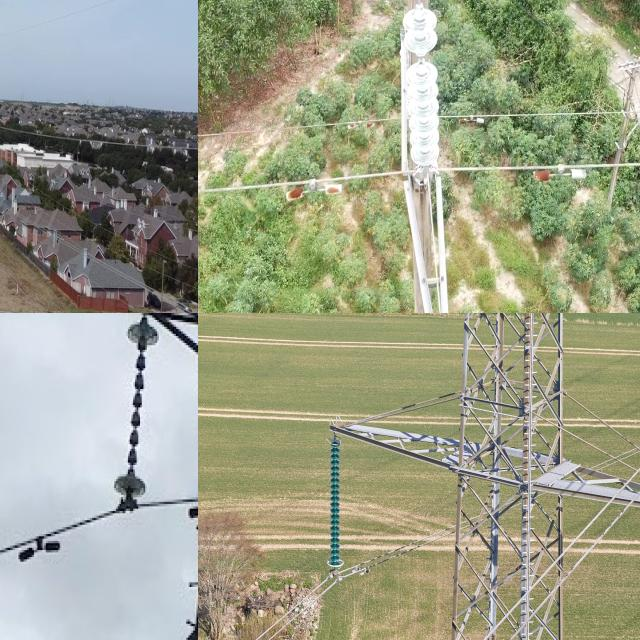杆塔: (460, 313, 567, 640), (124, 313, 198, 640)
正常电缆: (198, 110, 397, 143), (198, 164, 396, 197), (453, 155, 640, 181), (455, 102, 640, 122)
正常绝缘子: (116, 313, 159, 513), (400, 0, 445, 186), (324, 439, 349, 574)
绝缘子破损: (129, 418, 141, 437), (131, 400, 143, 418), (128, 439, 139, 458), (137, 342, 146, 364), (133, 383, 145, 399), (135, 364, 146, 381), (414, 53, 426, 66)
